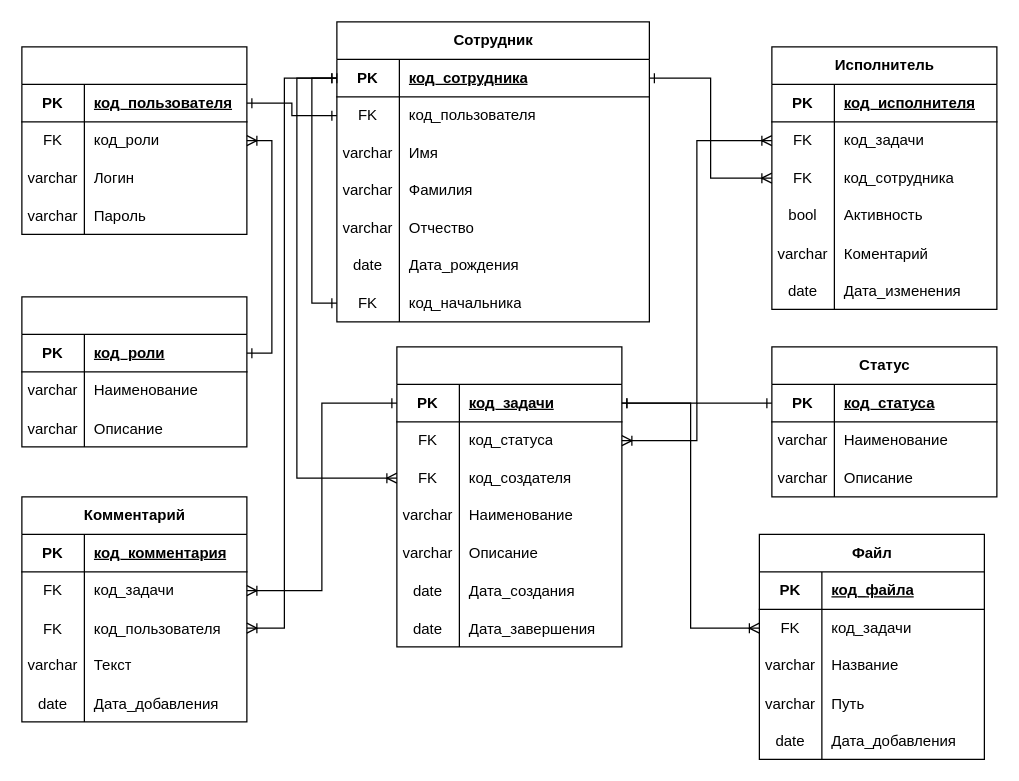
Some shapes in this 1019 by 781 pixel diagram are drawn without their labels. Here are the shapes that lost their labels. From the top down, the box of each, then its label:
(21, 46, 247, 234): Пользователь
(21, 296, 247, 447): Роль
(396, 346, 622, 647): Задача
